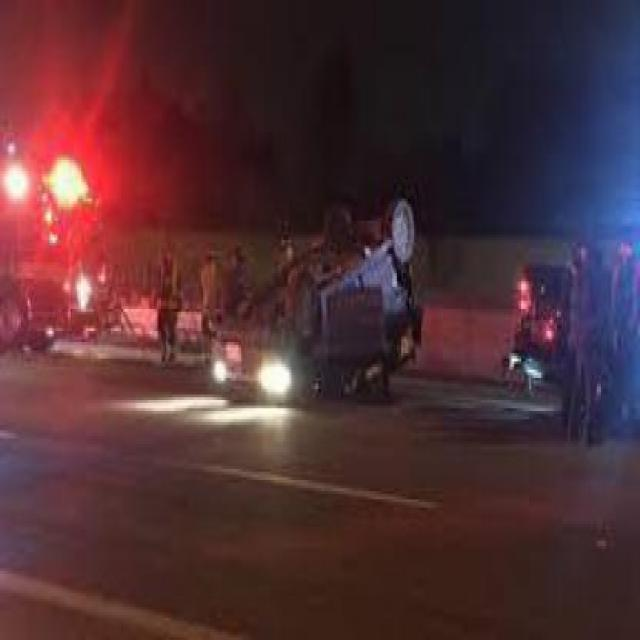accident: (205, 177, 420, 406)
